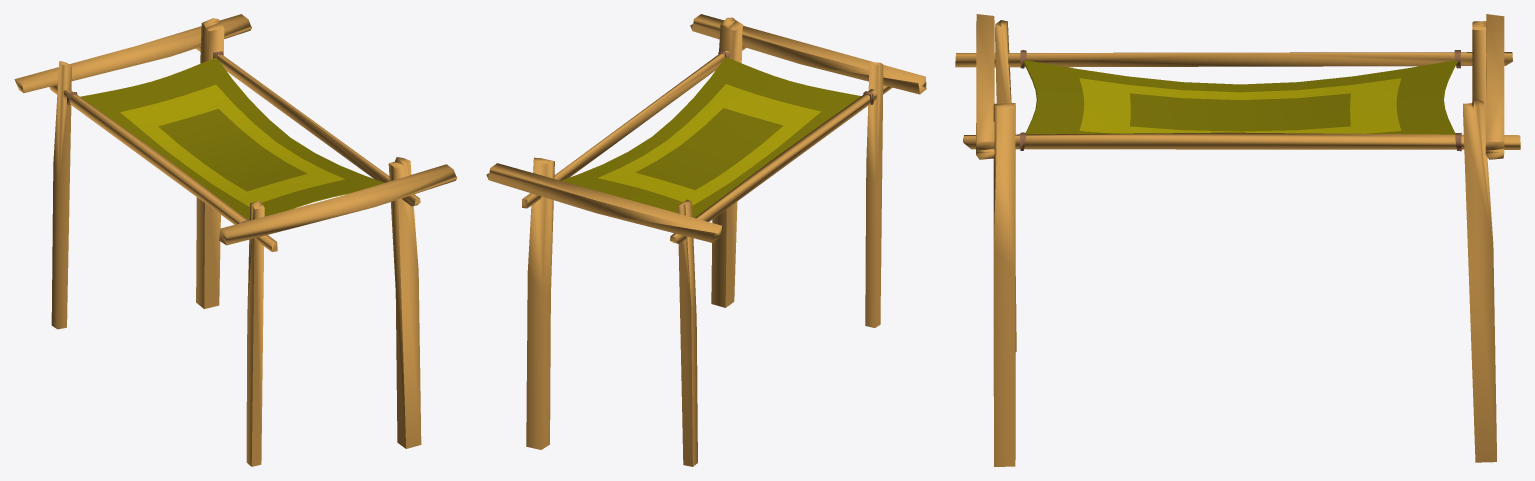
Rendered from Module_Awning_Large_LOD02.fbx.
The picture shows the model from 3 angles, left to right: view 1: azimuth 30°, elevation 25°; view 2: azimuth 150°, elevation 25°; view 3: azimuth 270°, elevation 25°; orthographic projection. The views are drawn at different scales.
Visible parts, largest first — view 1: Module_Awning_Large_LOD02_Geometry; view 2: Module_Awning_Large_LOD02_Geometry; view 3: Module_Awning_Large_LOD02_Geometry.
Boxes of the visible parts, x1,y1,x2,y2 form: Module_Awning_Large_LOD02_Geometry: (14,14,457,466); Module_Awning_Large_LOD02_Geometry: (486,14,926,466); Module_Awning_Large_LOD02_Geometry: (955,14,1520,466).
Bounding box in the file's own units: 4.14 × 4.89 × 7.06.
